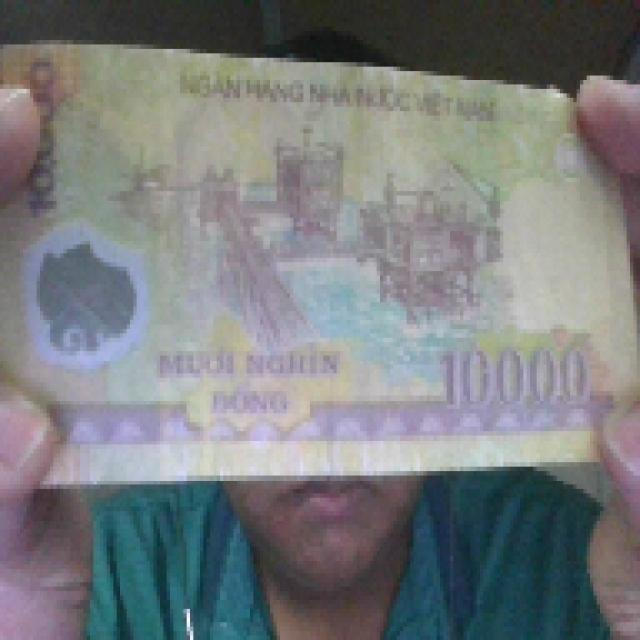10 000 VND: (0, 36, 637, 484)
